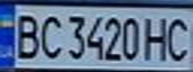0: (121, 14, 145, 62)
2: (103, 12, 124, 62)
3: (63, 11, 87, 61)
4: (84, 12, 106, 61)
B: (9, 10, 42, 60)
C: (36, 11, 66, 61), (163, 14, 193, 63)
H: (142, 14, 172, 62)
